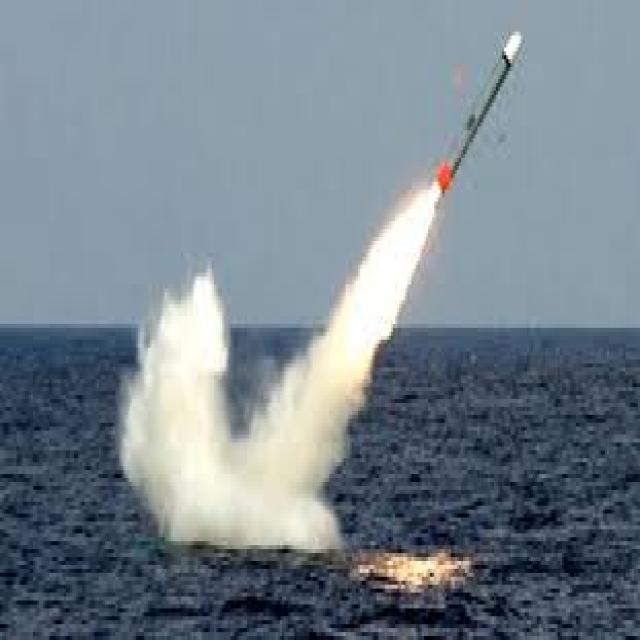missile: (431, 18, 528, 203)
